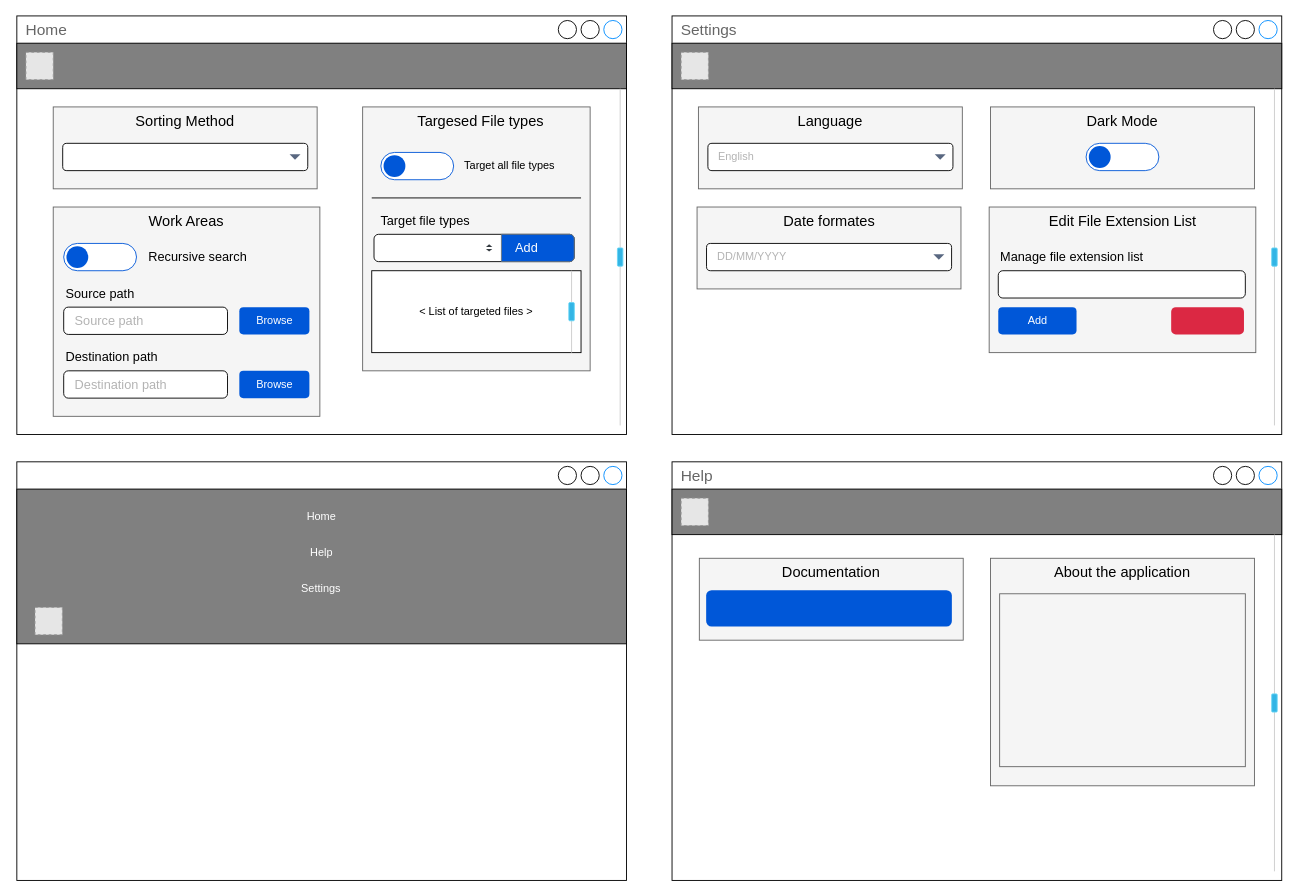
Some shapes in this 1298 by 896 pixel diagram are drawn without their labels. Grey dashed boxes stand in for pictures. The box of each missing label's shape, as (x1, y1, x2, y2) in pixels:
<some text goes here>: (999, 593, 1245, 767)
Choose...: (373, 233, 574, 262)
Eter a file extension here: (997, 270, 1245, 298)
Navigation: (16, 461, 627, 880)
Read The Documentation here: (706, 590, 951, 626)
Remove: (1171, 307, 1244, 334)
